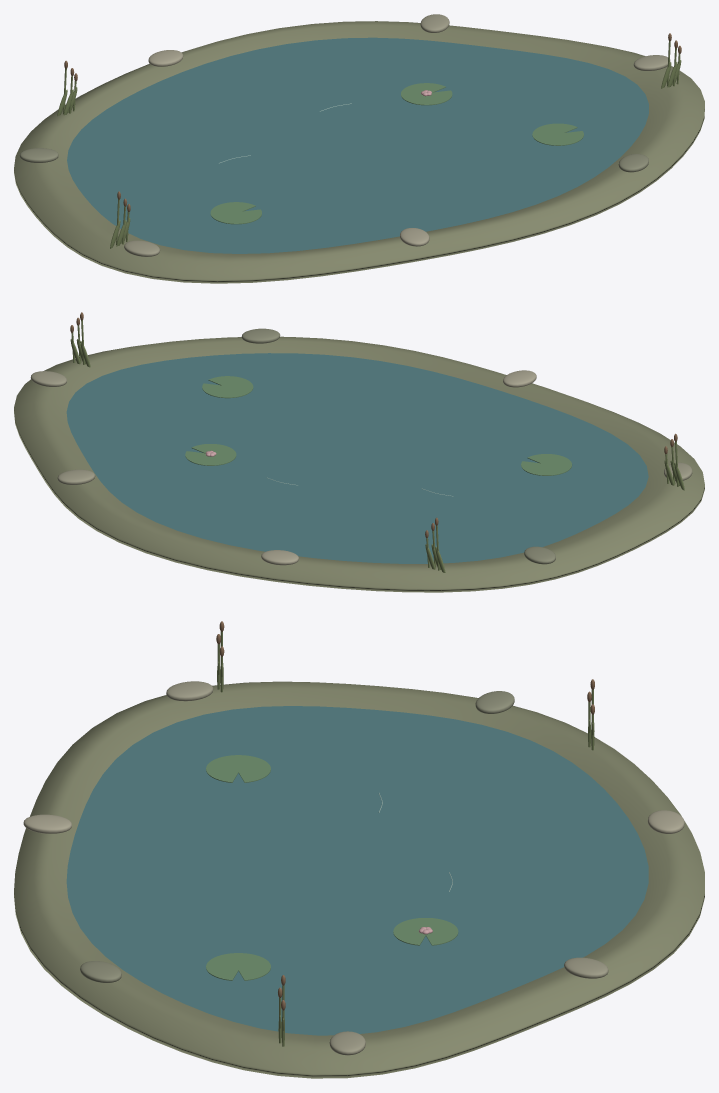
The model's file is gardenpond.glb.
3 renders of one model, top to bottom at view 1: azimuth 30°, elevation 25°; view 2: azimuth 150°, elevation 25°; view 3: azimuth 270°, elevation 25°, orthographic. The views are drawn at different scales.
Parts seen in each view (by area): view 1: contained-water-volume, continuous-recessed-pond-basin, notched-lily-pad-2, notched-lily-pad-1, notched-lily-pad-0, bank-stone-4, bank-stone-3, bank-stone-5, bank-stone-0, bank-stone-2, bank-stone-6, bank-stone-1; view 2: contained-water-volume, continuous-recessed-pond-basin, notched-lily-pad-1, notched-lily-pad-2, notched-lily-pad-0, bank-stone-1, bank-stone-5, bank-stone-6, bank-stone-0, bank-stone-2, bank-stone-4; view 3: contained-water-volume, continuous-recessed-pond-basin, notched-lily-pad-2, notched-lily-pad-1, notched-lily-pad-0, bank-stone-2, bank-stone-3, bank-stone-6, bank-stone-1, bank-stone-4, bank-stone-5, bank-stone-0.
Part boxes in pixels (left/top/right/bottom): contained-water-volume: left=67, top=37, right=648, bottom=253; continuous-recessed-pond-basin: left=14, top=21, right=704, bottom=283; notched-lily-pad-2: left=210, top=202, right=261, bottom=224; notched-lily-pad-1: left=532, top=123, right=583, bottom=145; notched-lily-pad-0: left=401, top=83, right=452, bottom=105; bank-stone-4: left=19, top=148, right=58, bottom=162; bank-stone-3: left=124, top=240, right=160, bottom=256; bank-stone-5: left=148, top=50, right=183, bottom=66; bank-stone-0: left=633, top=55, right=670, bottom=70; bank-stone-2: left=400, top=228, right=429, bottom=246; bank-stone-6: left=420, top=14, right=449, bottom=32; bank-stone-1: left=618, top=154, right=648, bottom=172; contained-water-volume: left=66, top=353, right=648, bottom=563; continuous-recessed-pond-basin: left=14, top=336, right=704, bottom=592; notched-lily-pad-1: left=202, top=376, right=253, bottom=398; notched-lily-pad-2: left=521, top=454, right=571, bottom=475; notched-lily-pad-0: left=185, top=444, right=236, bottom=465; bank-stone-1: left=241, top=328, right=280, bottom=343; bank-stone-5: left=261, top=550, right=298, bottom=565; bank-stone-6: left=57, top=469, right=95, bottom=484; bank-stone-0: left=30, top=371, right=66, bottom=386; bank-stone-2: left=503, top=370, right=536, bottom=387; bank-stone-4: left=524, top=546, right=555, bottom=564; contained-water-volume: left=66, top=706, right=648, bottom=1035; continuous-recessed-pond-basin: left=14, top=681, right=704, bottom=1078; notched-lily-pad-2: left=206, top=755, right=270, bottom=782; notched-lily-pad-1: left=206, top=953, right=270, bottom=980; notched-lily-pad-0: left=393, top=918, right=458, bottom=945; bank-stone-2: left=23, top=814, right=71, bottom=833; bank-stone-3: left=166, top=681, right=213, bottom=701; bank-stone-6: left=564, top=957, right=608, bottom=978; bank-stone-1: left=80, top=961, right=121, bottom=982; bank-stone-4: left=475, top=691, right=514, bottom=713; bank-stone-5: left=647, top=810, right=684, bottom=833; bank-stone-0: left=329, top=1031, right=365, bottom=1055.
Bounding box in the file's own units: 7.12 × 0.7071 × 5.31.
